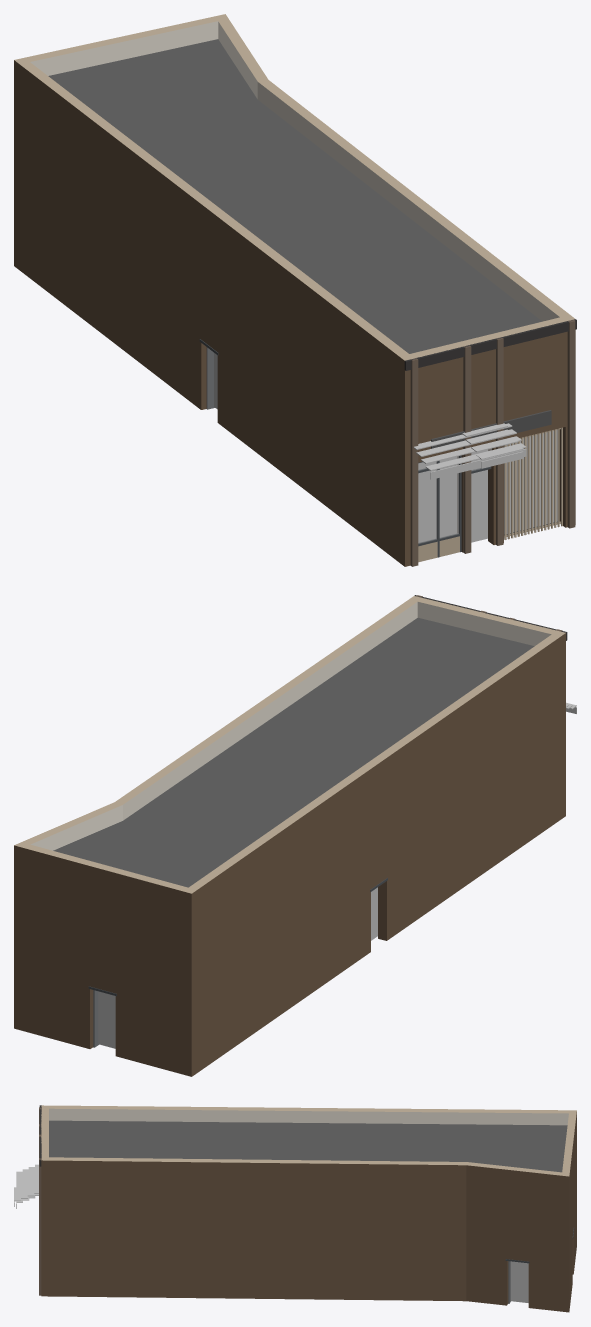
File: exterior.glb
The picture shows the model from 3 angles, top to bottom: view 1: azimuth 30°, elevation 25°; view 2: azimuth 150°, elevation 25°; view 3: azimuth 270°, elevation 25°; orthographic projection. The views are drawn at different scales.
Visible parts, largest first — view 1: shell, roof, relief-0, storefront, shadow-proxy, glazing, awning-spans-0, awning, trim; view 2: shell, roof, shadow-proxy; view 3: shell, roof, shadow-proxy, relief-0, awning-spans-0, awning.
Part boxes in pixels (left/top/right/bottom): shell: left=14, top=14, right=575, bottom=566; roof: left=48, top=39, right=542, bottom=353; relief-0: left=404, top=319, right=576, bottom=566; storefront: left=199, top=339, right=562, bottom=562; shadow-proxy: left=214, top=353, right=557, bottom=542; glazing: left=418, top=448, right=491, bottom=543; awning-spans-0: left=413, top=423, right=526, bottom=479; awning: left=462, top=423, right=523, bottom=468; trim: left=431, top=410, right=551, bottom=448; shell: left=14, top=596, right=565, bottom=1076; roof: left=53, top=617, right=534, bottom=887; shadow-proxy: left=98, top=887, right=377, bottom=1048; shell: left=41, top=1105, right=576, bottom=1312; roof: left=49, top=1120, right=567, bottom=1172; shadow-proxy: left=510, top=1261, right=528, bottom=1302; relief-0: left=39, top=1105, right=41, bottom=1295; awning-spans-0: left=16, top=1164, right=38, bottom=1208; awning: left=14, top=1179, right=38, bottom=1206.
Bounding box in the file's own units: 7.47 × 6.66 × 25.
